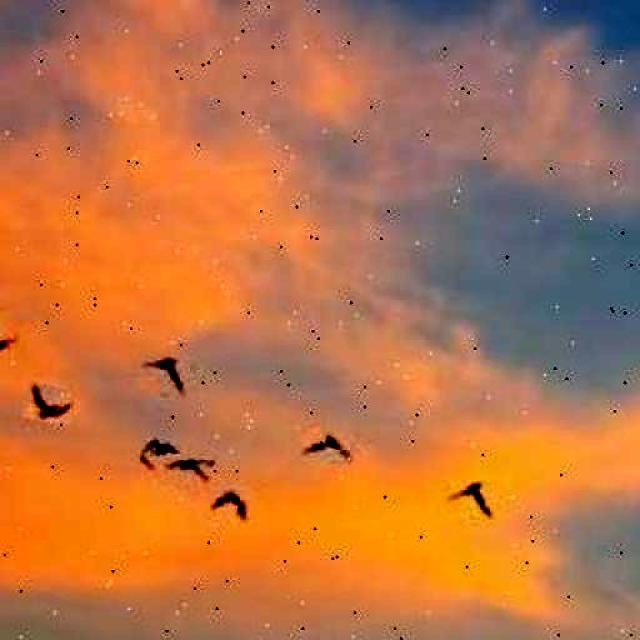airplane: (135, 352, 191, 399), (444, 474, 500, 520), (22, 381, 76, 425), (300, 428, 356, 465), (138, 436, 184, 476), (161, 451, 211, 482), (208, 488, 249, 524), (0, 309, 22, 358)
